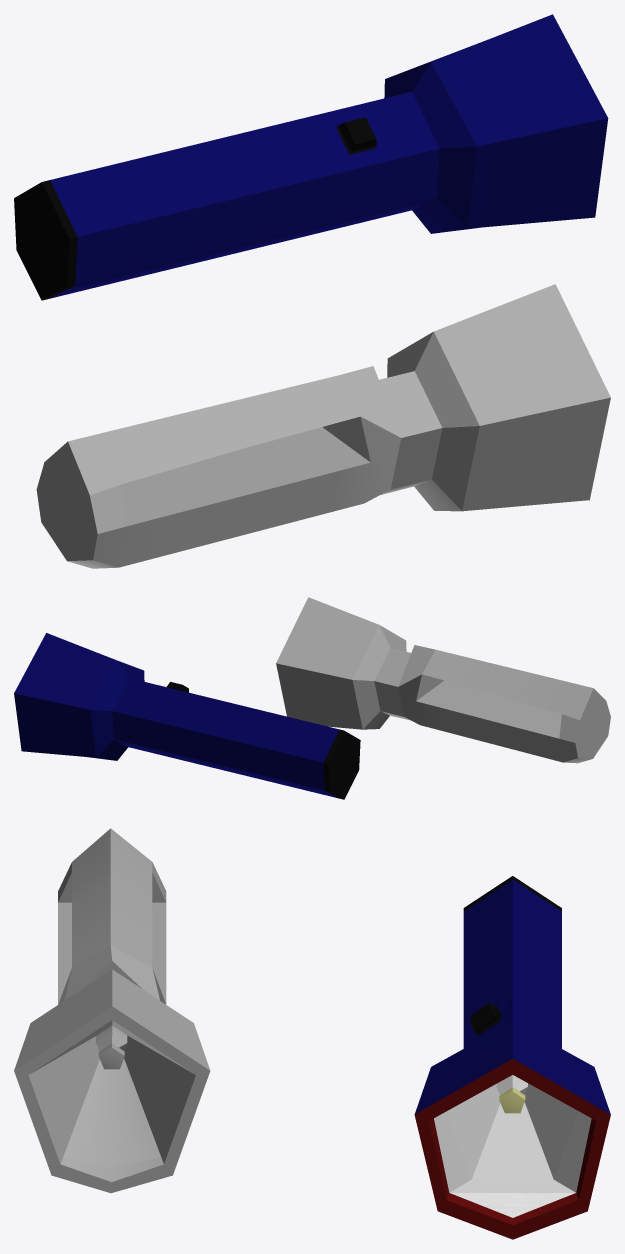
The model's file is Linterna_Modelo.fbx.
The picture shows the model from 3 angles, top to bottom: view 1: azimuth 30°, elevation 25°; view 2: azimuth 150°, elevation 25°; view 3: azimuth 270°, elevation 25°; orthographic projection. The views are drawn at different scales.
Visible parts, largest first — view 1: pasted__pCylinder1, pCylinder1; view 2: pasted__pCylinder1, pCylinder1; view 3: pCylinder1, pasted__pCylinder1.
Part boxes in pixels (left/top/right/bottom): pasted__pCylinder1: left=36, top=284, right=610, bottom=568; pCylinder1: left=14, top=14, right=608, bottom=300; pasted__pCylinder1: left=276, top=597, right=610, bottom=763; pCylinder1: left=14, top=633, right=360, bottom=799; pCylinder1: left=414, top=876, right=610, bottom=1239; pasted__pCylinder1: left=14, top=828, right=210, bottom=1193.
Bounding box in the file's own units: 11.68 × 4.09 × 9.57.
